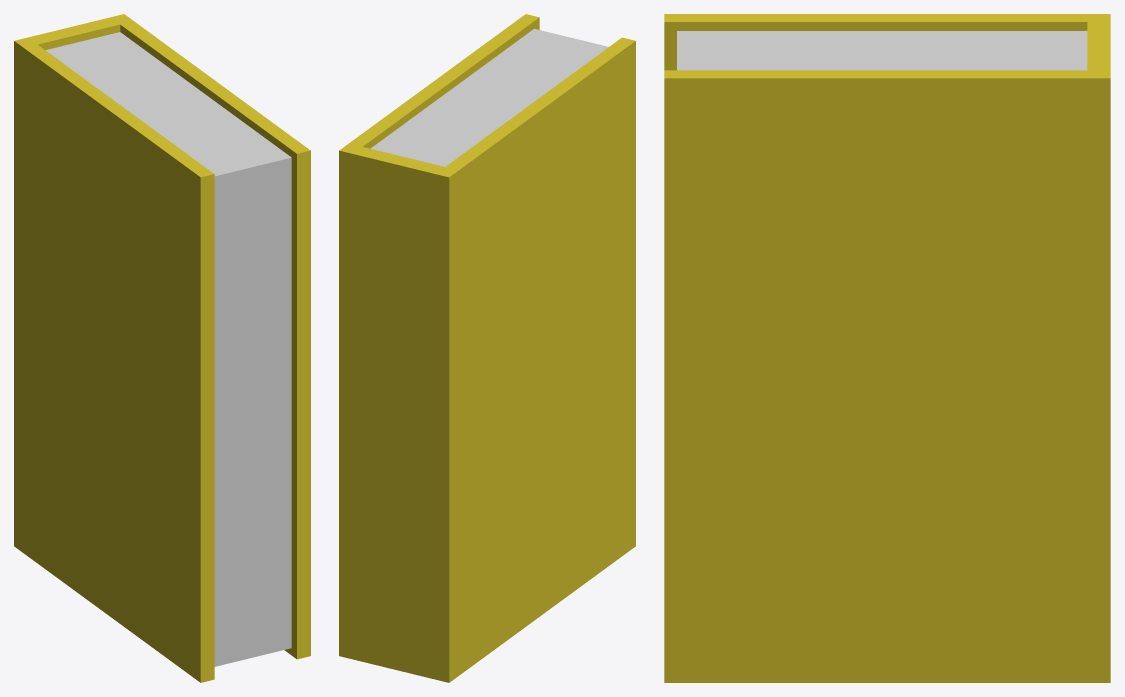
The model's file is book_4.fbx.
3 renders of one model, left to right at view 1: azimuth 30°, elevation 25°; view 2: azimuth 150°, elevation 25°; view 3: azimuth 270°, elevation 25°, orthographic. The views are drawn at different scales.
Parts seen in each view (by area): view 1: book_4; view 2: book_4; view 3: book_4.
Part boxes in pixels (x1,y1,x2,y2): book_4: [14, 14, 310, 682]; book_4: [339, 14, 635, 682]; book_4: [664, 14, 1110, 682].
Bounding box in the file's own units: 8.65 × 37.95 × 25.39.
